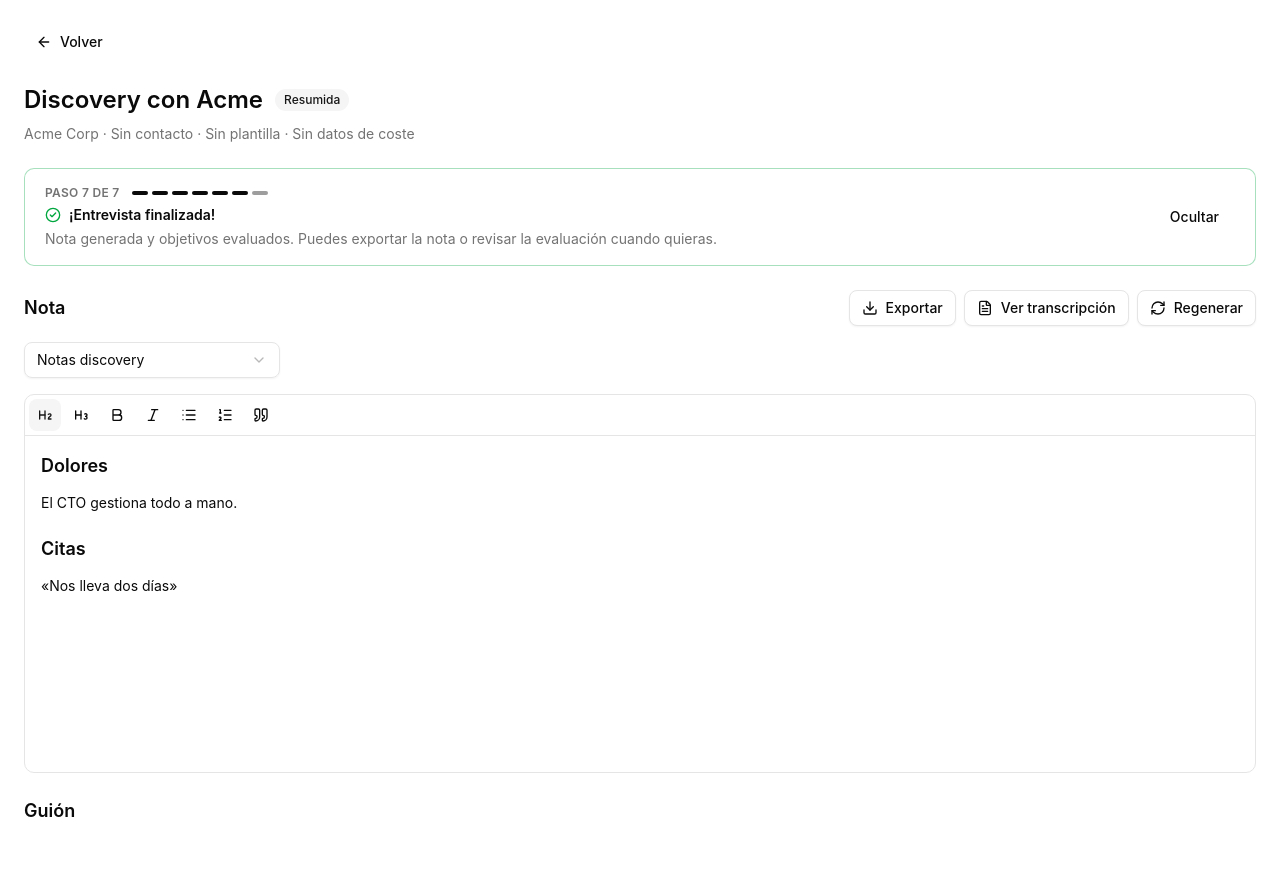
NoteSection › generation › regenerates on confirm replacing the note and toasting "Nota generada"
This screenshot has width=1280, height=890.
Click the button with test id "note-regenerate-button" at (1196, 308), box 1137,290 -> 1256,326
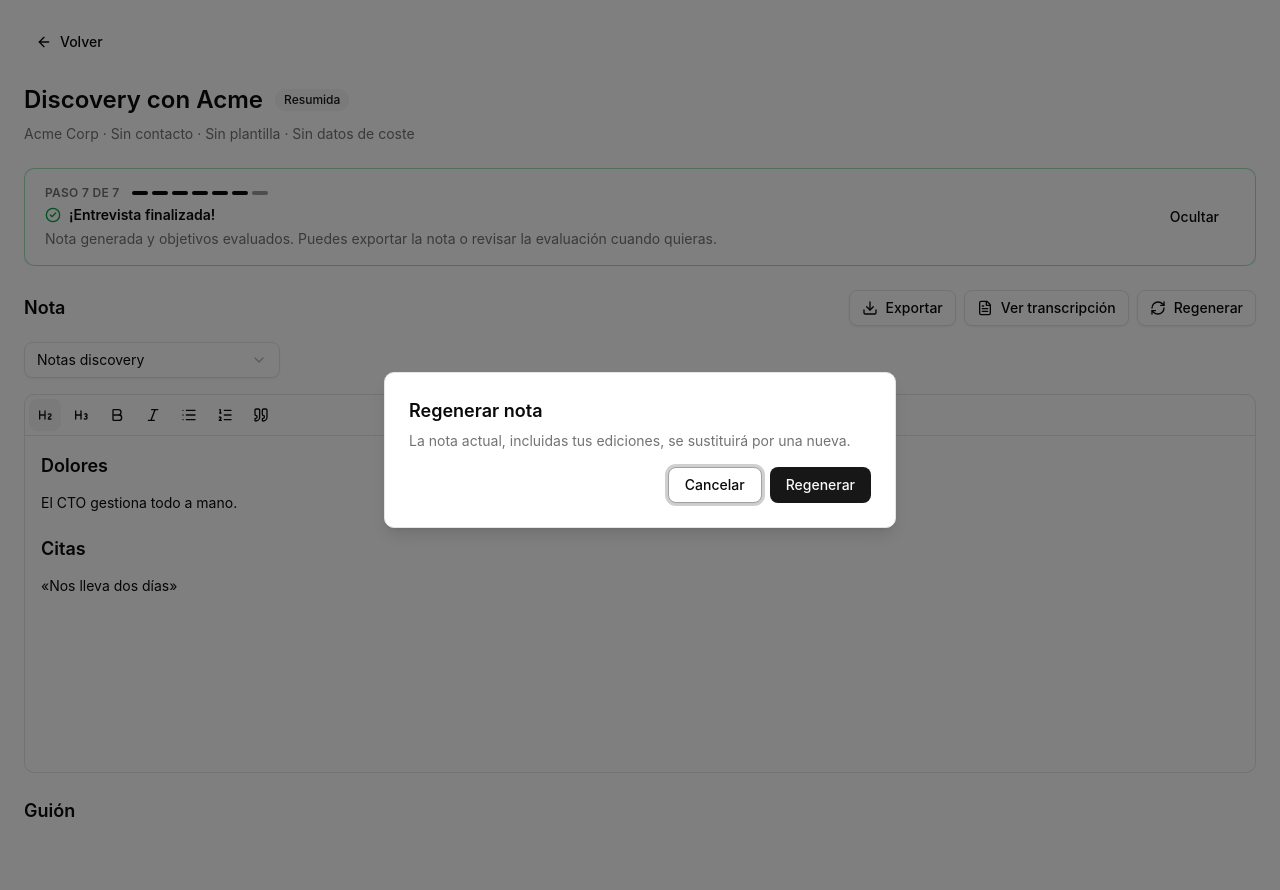
Click the button "Regenerar" at (820, 485), box 770,467 -> 871,503
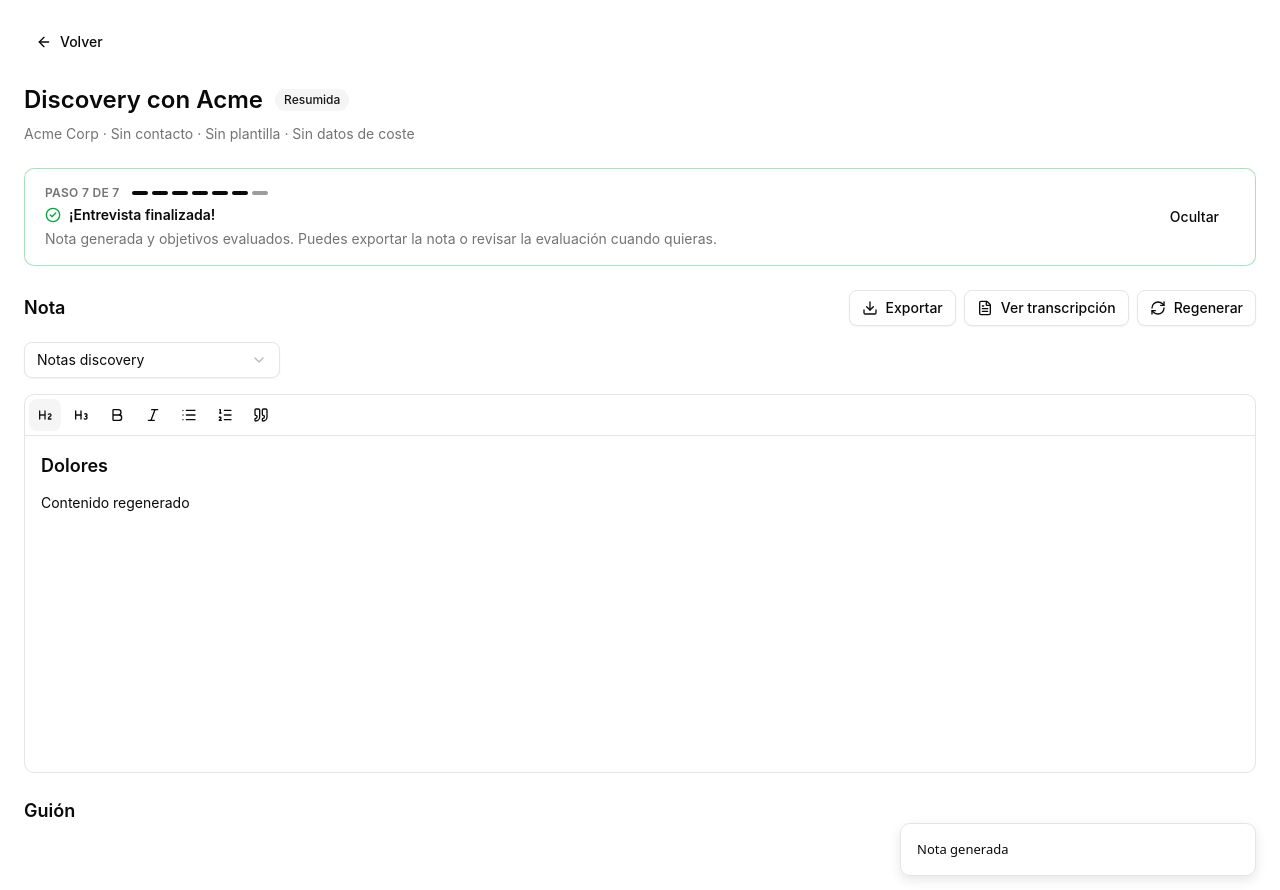
Now the text box "Contenido regenerado" is shown, box 41,494 -> 190,511
Now the field "El CTO gestiona todo a mano." is gone
